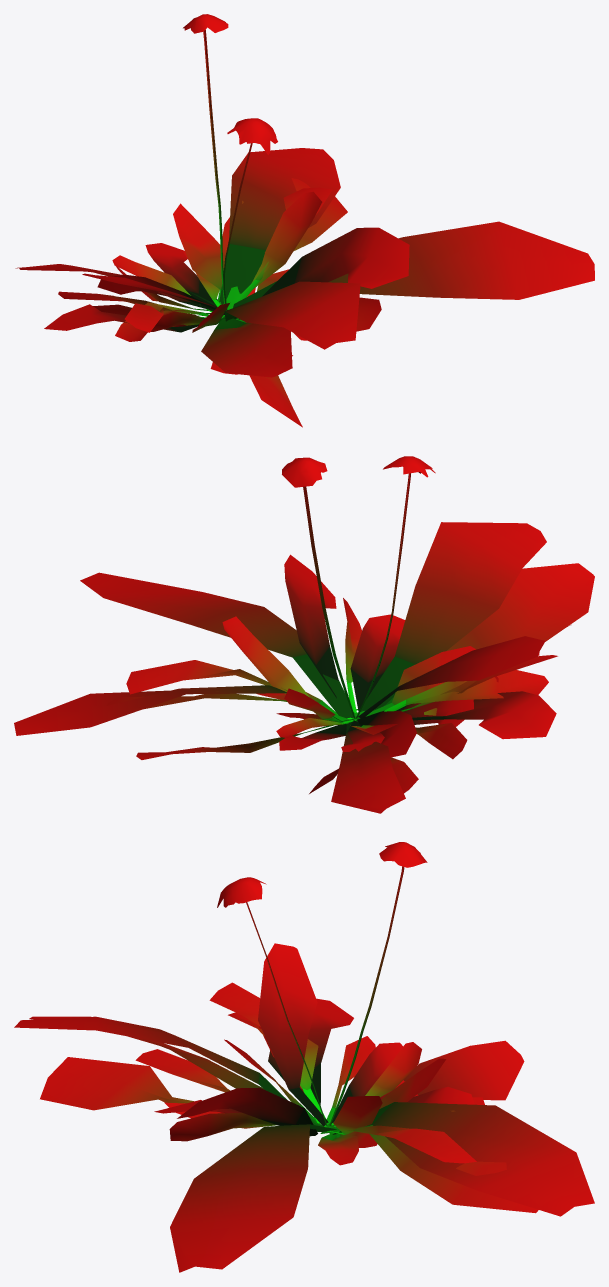
File: Var3_LOD0.fbx
3 views of the same model, one above another, from view 1: azimuth 30°, elevation 25°; view 2: azimuth 150°, elevation 25°; view 3: azimuth 270°, elevation 25° (orthographic). The views are drawn at different scales.
Parts seen in each view (by area): view 1: _6d97_Var3_LOD0; view 2: _6d97_Var3_LOD0; view 3: _6d97_Var3_LOD0.
Boxes of the visible parts, bbox=[...] form: _6d97_Var3_LOD0: bbox=[15, 14, 594, 427]; _6d97_Var3_LOD0: bbox=[14, 456, 594, 813]; _6d97_Var3_LOD0: bbox=[14, 842, 594, 1272].
Size of the model in its own units: 42.62 by 23.57 by 40.32.
